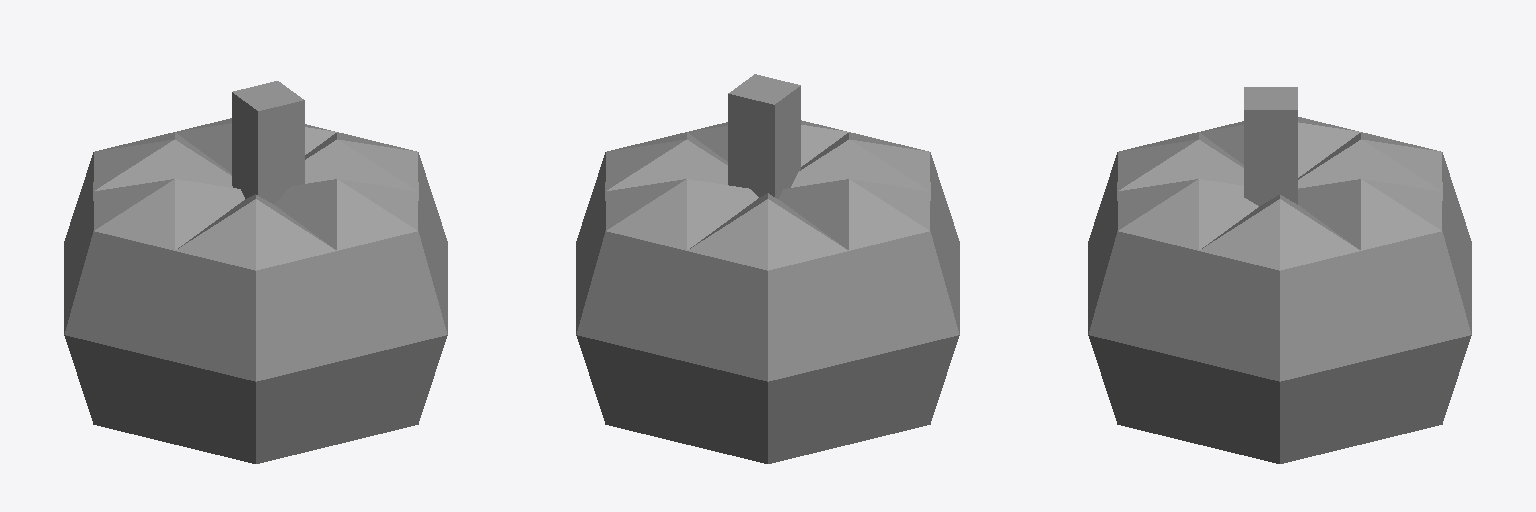
Rendered from pumpkin_04_02_a.obj.
The picture shows the model from 3 angles: view 1: azimuth 30°, elevation 25°; view 2: azimuth 150°, elevation 25°; view 3: azimuth 270°, elevation 25°; orthographic projection.
Visible parts, largest first — view 1: pumpkin_04_02_a; view 2: pumpkin_04_02_a; view 3: pumpkin_04_02_a.
Part boxes in pixels (x1,y1,x2,y2): pumpkin_04_02_a: (64,81,447,463); pumpkin_04_02_a: (576,74,959,463); pumpkin_04_02_a: (1088,87,1471,463).
Bounding box in the file's own units: 2.06 × 1.66 × 1.79.